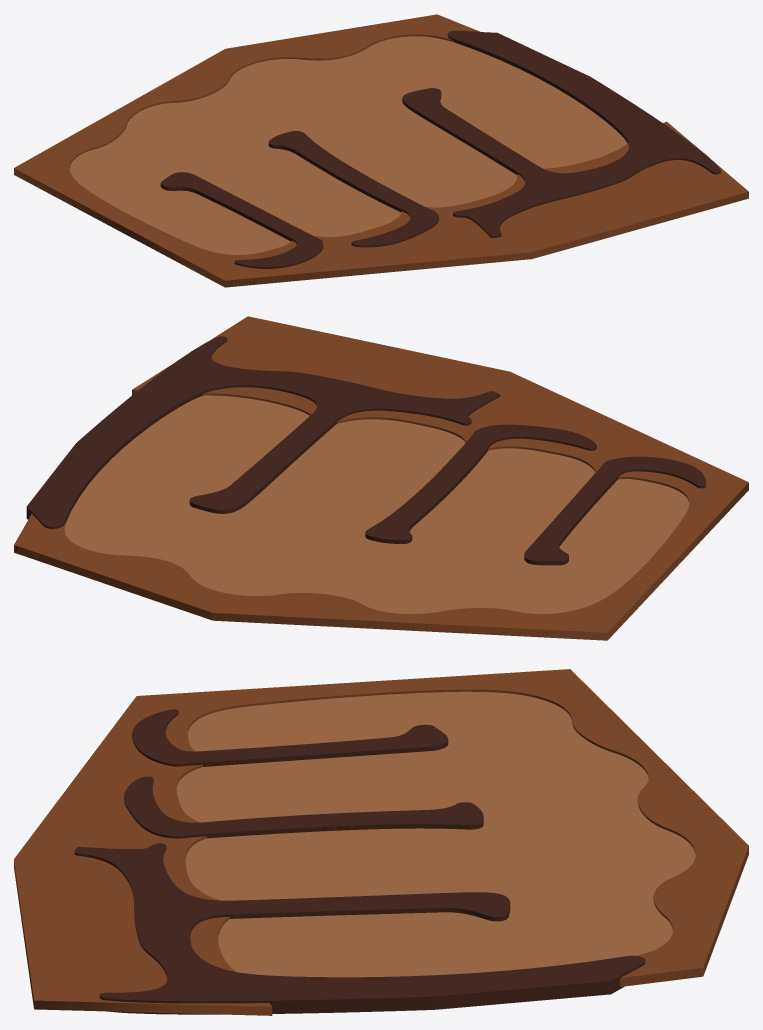
Rendered from emoji_u1f44a_1f3fe.glb.
3 renders of one model, top to bottom at view 1: azimuth 30°, elevation 25°; view 2: azimuth 150°, elevation 25°; view 3: azimuth 270°, elevation 25°, orthographic. The views are drawn at different scales.
Parts seen in each view (by area): view 1: emoji_u1f44a_1f3fe; view 2: emoji_u1f44a_1f3fe; view 3: emoji_u1f44a_1f3fe.
Boxes of the visible parts, <box> form: emoji_u1f44a_1f3fe: <box>14,14,748,287</box>; emoji_u1f44a_1f3fe: <box>14,316,748,640</box>; emoji_u1f44a_1f3fe: <box>14,669,748,1015</box>.
Bounding box in the file's own units: 0.0325 × 0.0006 × 0.0299.
